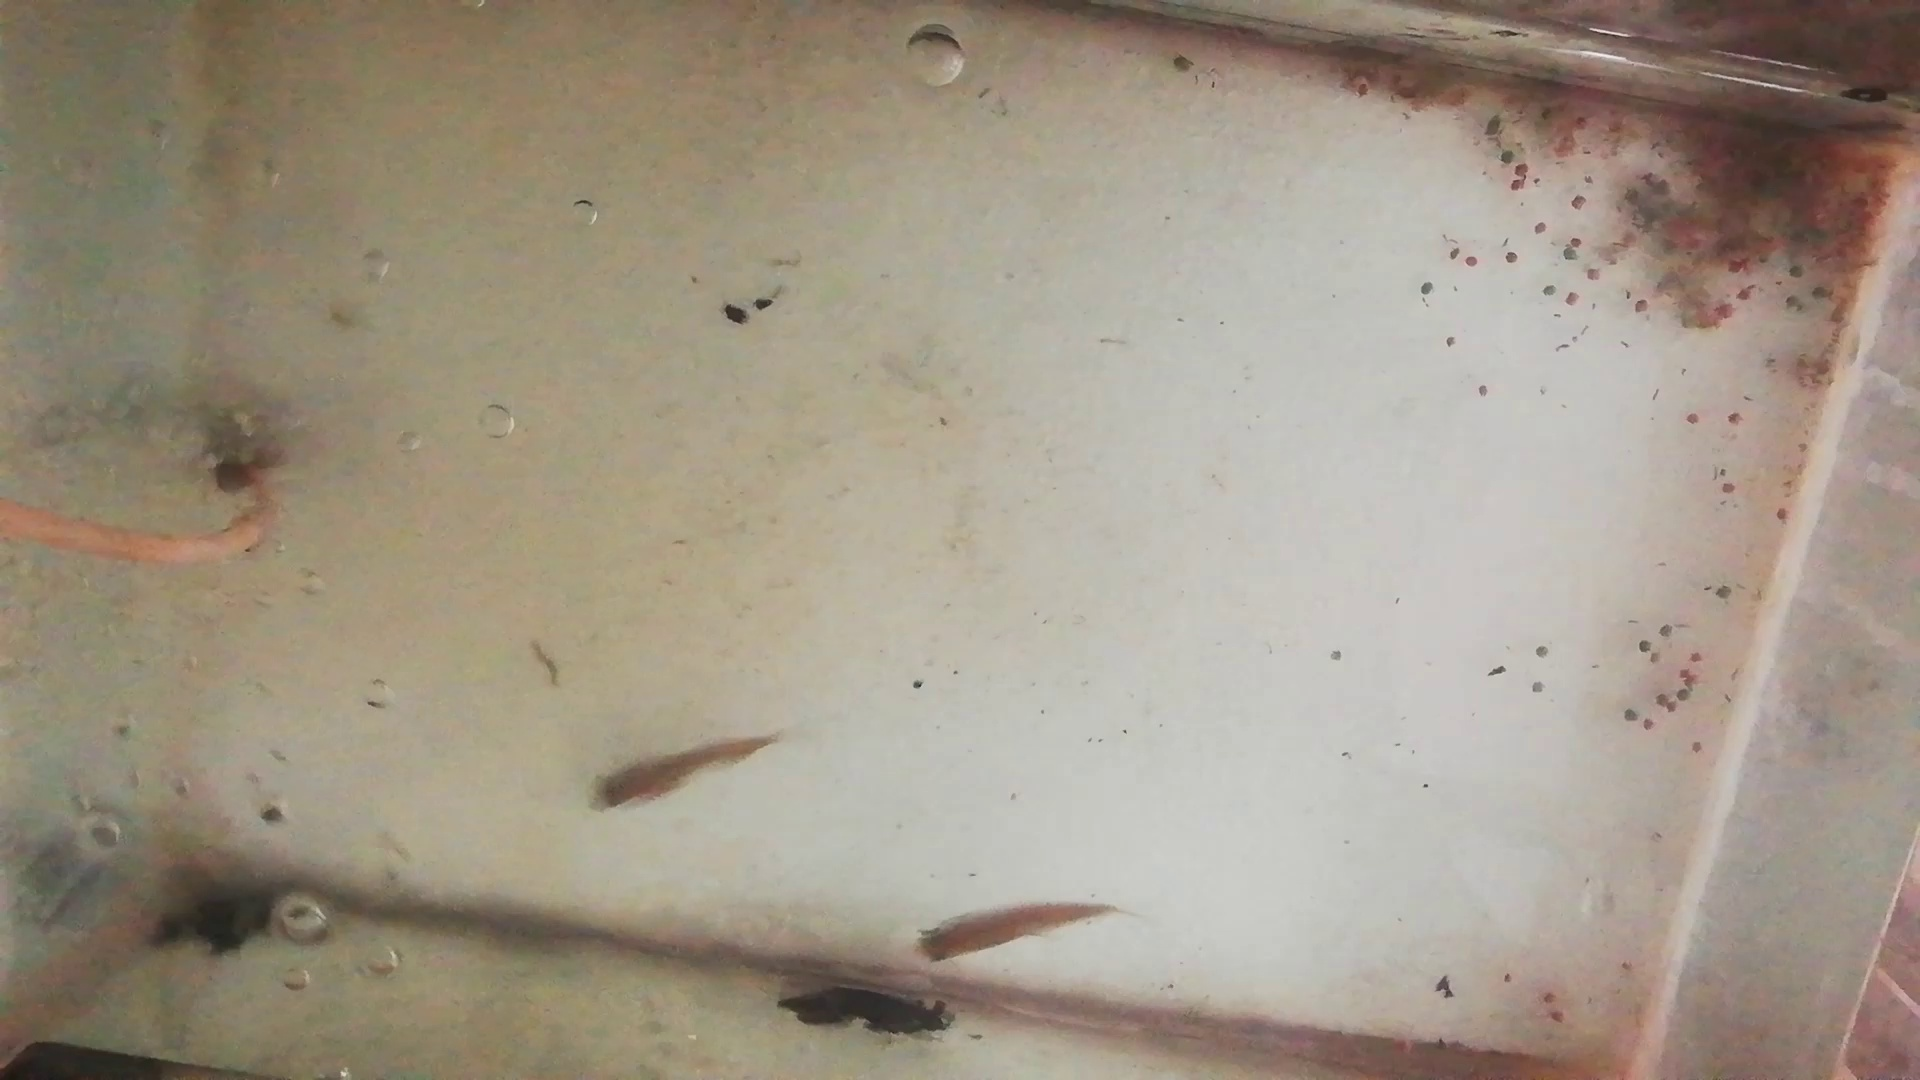fish: (584, 735, 774, 818), (913, 898, 1127, 971)
